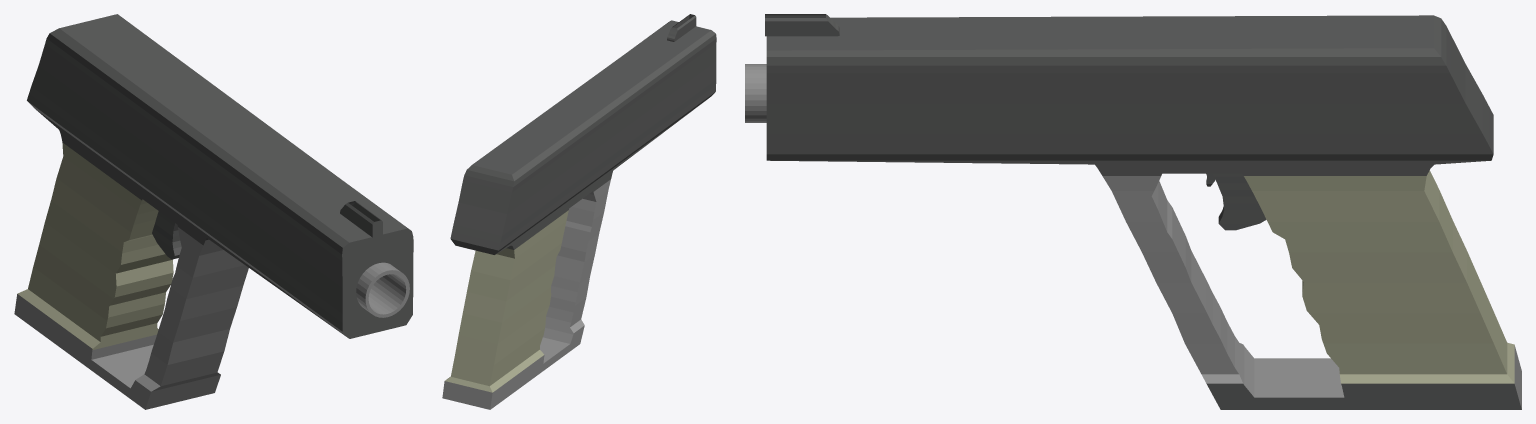
File: scifi.pistol.fbx
3 views of the same model, side by side, from view 1: azimuth 30°, elevation 25°; view 2: azimuth 150°, elevation 25°; view 3: azimuth 270°, elevation 25° (orthographic). The views are drawn at different scales.
Parts seen in each view (by area): view 1: base, barrel, trigger, front.iron; view 2: base, front.iron; view 3: base, trigger, front.iron, barrel.
Boxes of the visible parts, <box> form: base: <box>14,14,413,409</box>; barrel: <box>356,262,409,317</box>; trigger: <box>152,211,181,259</box>; front.iron: <box>340,201,382,237</box>; base: <box>442,20,716,409</box>; front.iron: <box>667,14,696,41</box>; base: <box>766,15,1521,409</box>; trigger: <box>1213,173,1266,230</box>; front.iron: <box>765,14,839,36</box>; barrel: <box>745,64,766,122</box>.
Bounding box in the file's own units: 25.42 × 208 × 111.
